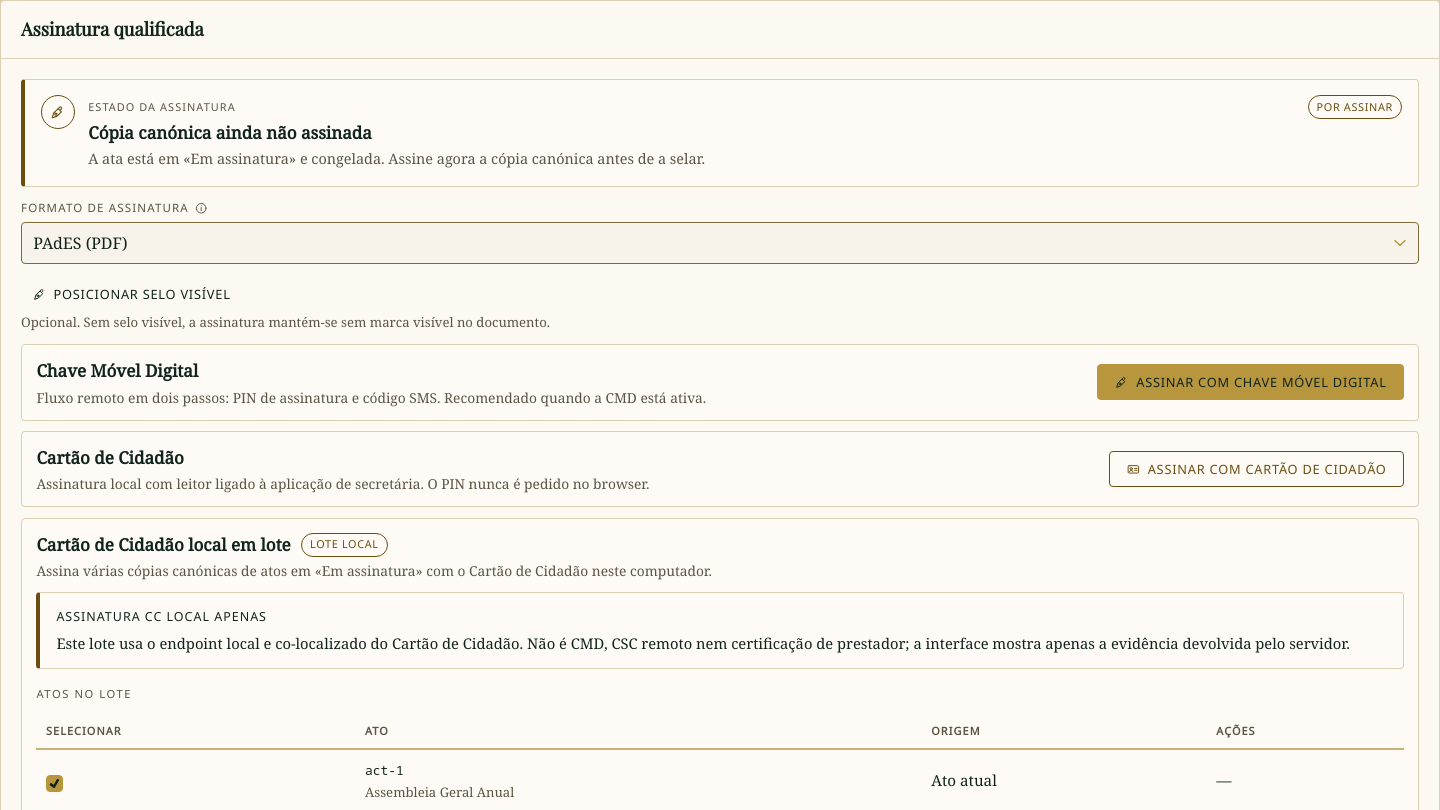
Scenario: the saved CMD mobile number › says so when a number is stored but this session cannot decrypt it
Click the button "Assinar com Chave Móvel Digital": (1250, 382) [1097,364,1404,400]
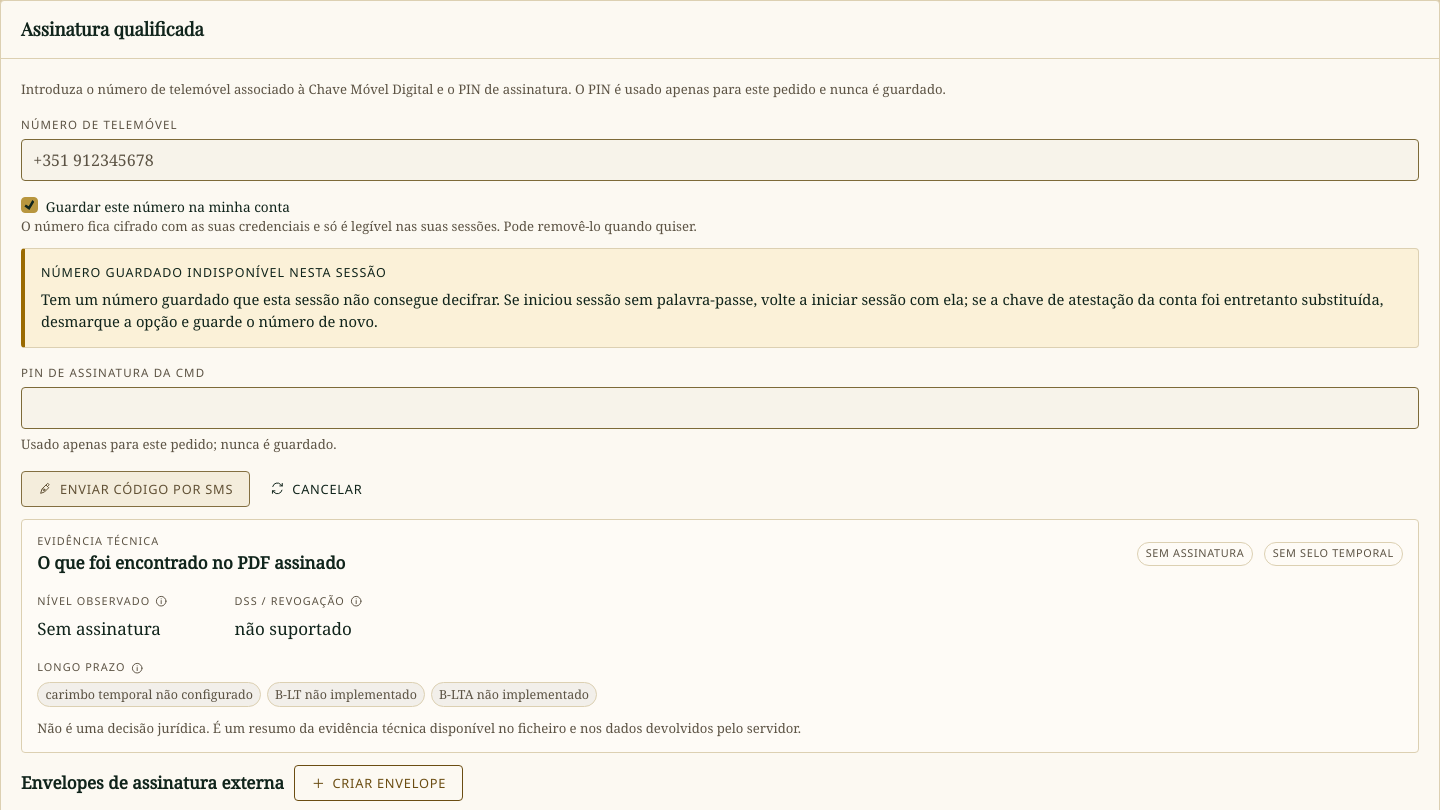
Now the checkbox labelled "Guardar este número na minha conta" is checked, box [21,197,38,214]
Now the field labelled "Número de telemóvel" is empty, box [21,139,1419,181]
Now the text "Número guardado indisponível nesta sessão" is shown, box [41,264,387,281]
